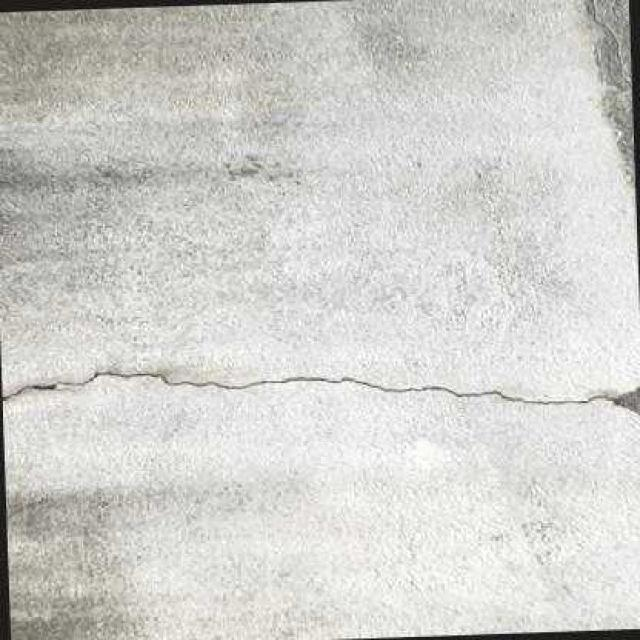D00: (2, 369, 640, 407)
